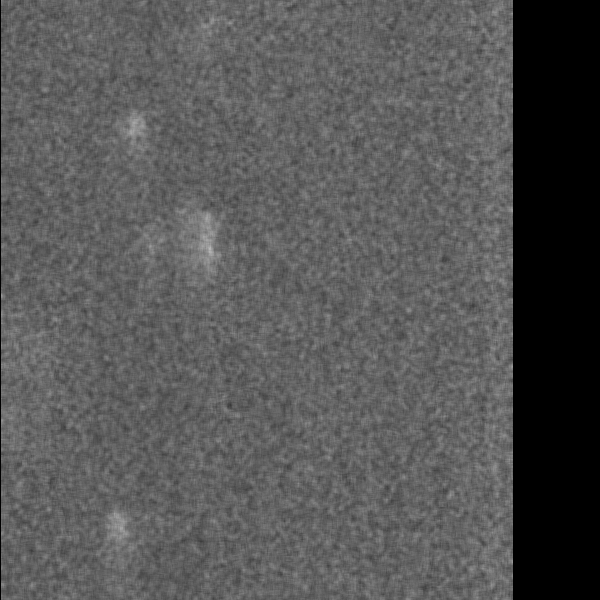spark: (192, 202, 216, 298), (121, 105, 149, 182), (107, 504, 125, 557)
